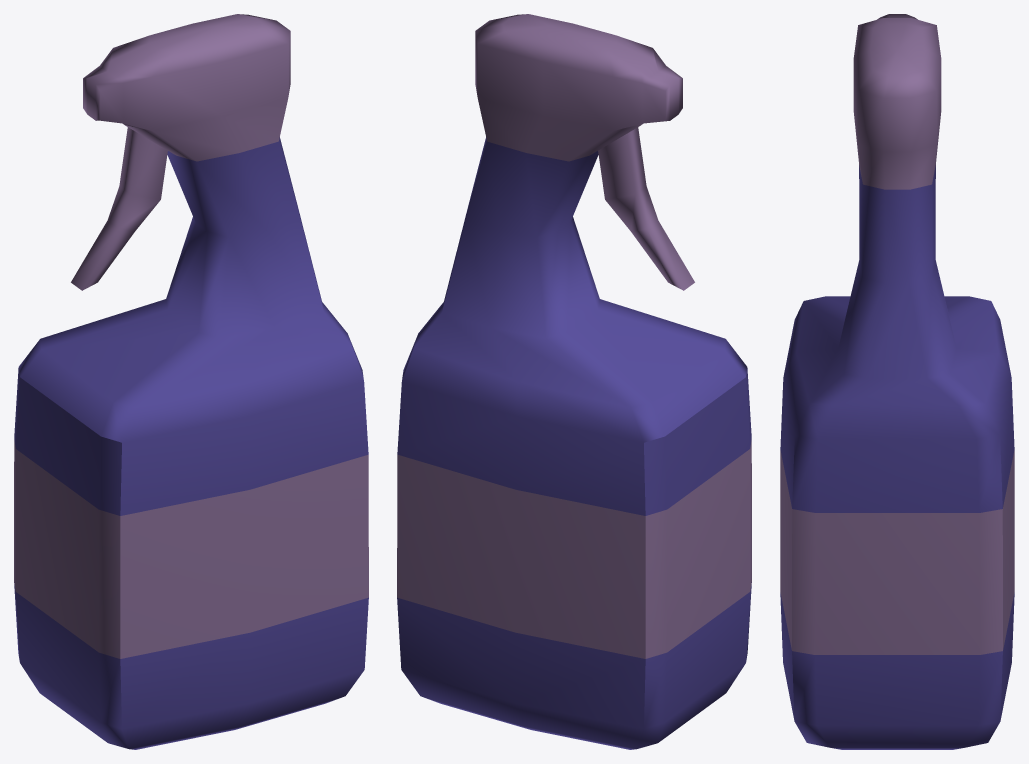
File: Spray_Cleaner.fbx
The picture shows the model from 3 angles, left to right: view 1: azimuth 30°, elevation 25°; view 2: azimuth 150°, elevation 25°; view 3: azimuth 270°, elevation 25°; orthographic projection.
Parts seen in each view (by area): view 1: pCube27; view 2: pCube27; view 3: pCube27.
Boxes of the visible parts, bbox=[...] form: pCube27: bbox=[14, 14, 368, 749]; pCube27: bbox=[397, 14, 751, 749]; pCube27: bbox=[780, 14, 1014, 749].
Size of the model in its own units: 21.3 by 50.49 by 16.22.
